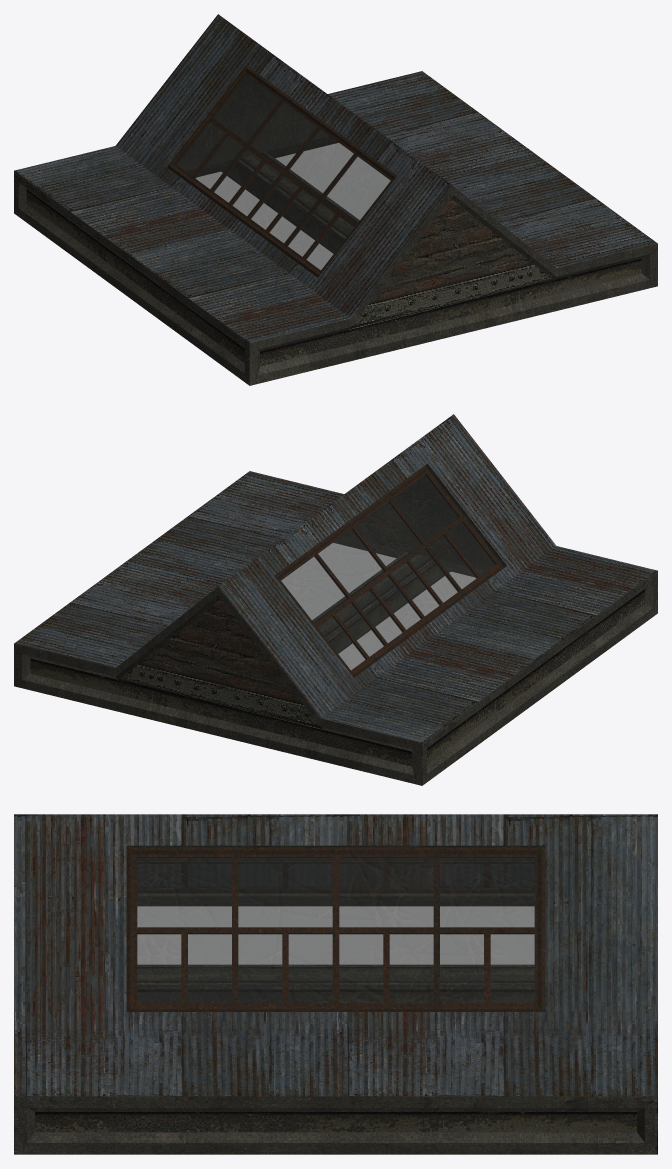
File: roof_bx_1.glb
3 views of the same model, one above another, from view 1: azimuth 30°, elevation 25°; view 2: azimuth 150°, elevation 25°; view 3: azimuth 270°, elevation 25° (orthographic). The views are drawn at different scales.
Visible parts, largest first — view 1: roof_bx_1; view 2: roof_bx_1; view 3: roof_bx_1.
Part boxes in pixels (x1,y1,x2,y2): roof_bx_1: [14, 14, 657, 385]; roof_bx_1: [14, 414, 657, 785]; roof_bx_1: [14, 814, 657, 1154].
Bounding box in the file's own units: 4 × 1.4 × 4.
5 materials, 5 textured.
